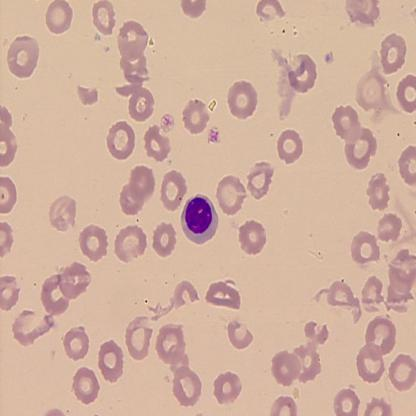NRC: (178, 192, 220, 247)
